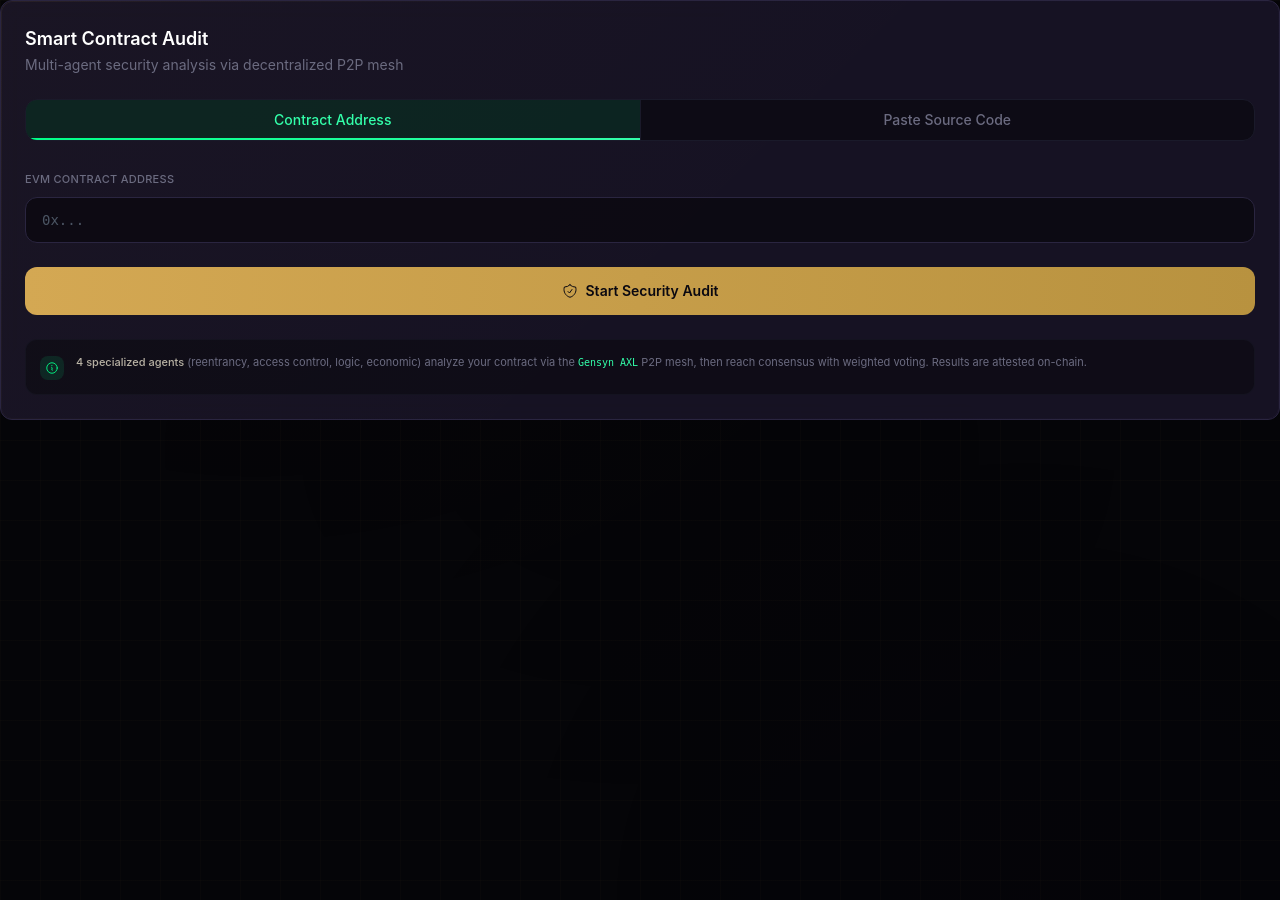
Scenario: AuditConsole › validates empty address input
The width and height of the screenshot is (1280, 900).
Click the button "Start Security Audit" at coordinates (640, 291), box [25,267,1255,315]
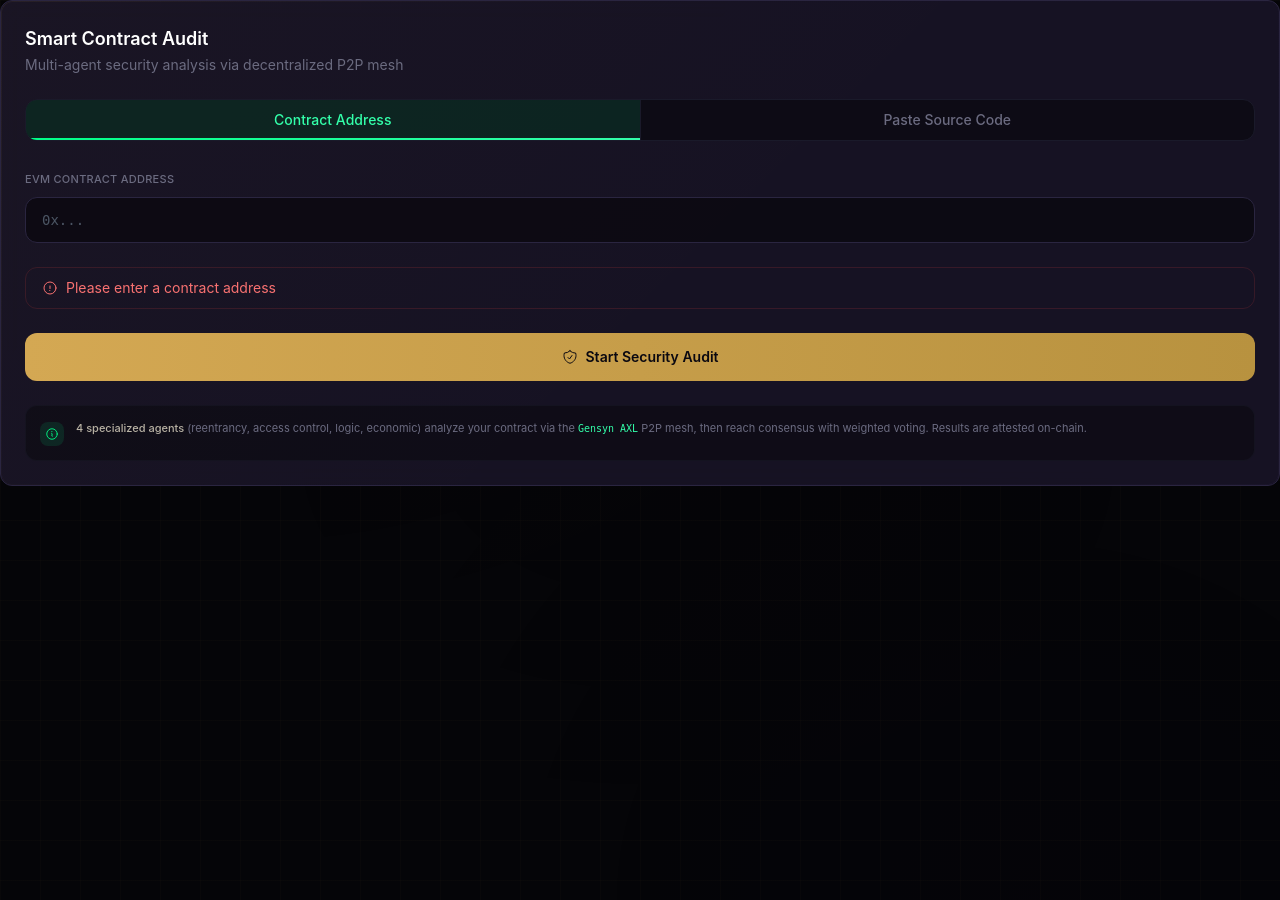
Result: the text "Please enter a contract address" is shown at [25,267,1255,309]
